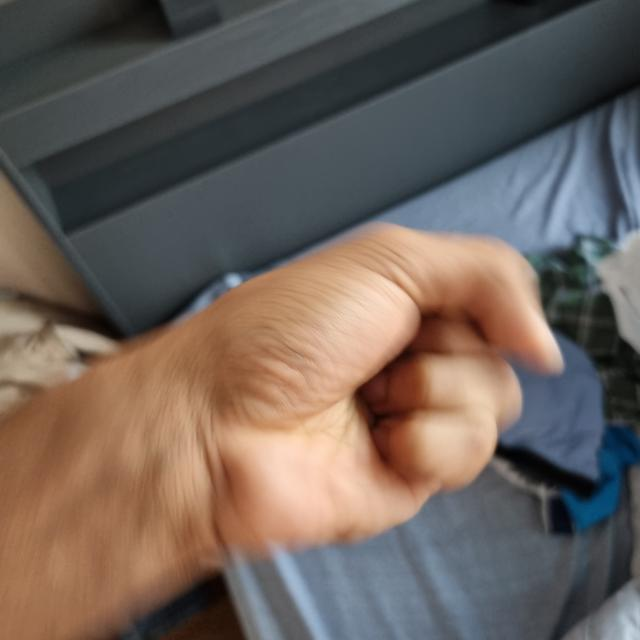Rock: (124, 227, 555, 554)
